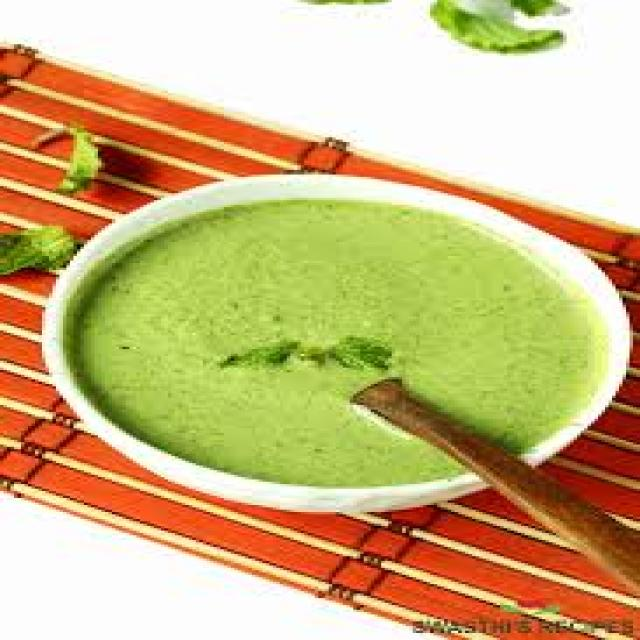GREEN CHUTNEY: (66, 198, 602, 482)
